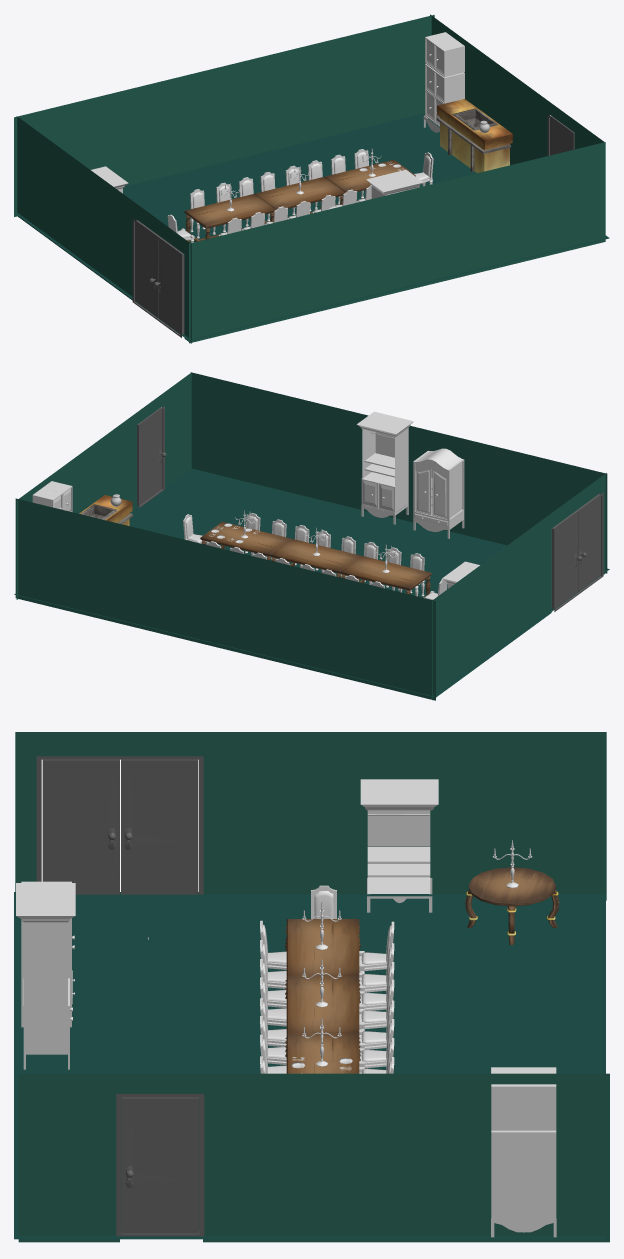
The model's file is Volle kamer.FBX.
3 renders of one model, top to bottom at view 1: azimuth 30°, elevation 25°; view 2: azimuth 150°, elevation 25°; view 3: azimuth 270°, elevation 25°, orthographic. The views are drawn at different scales.
Parts seen in each view (by area): view 1: pPlane47, pPlane49, Floor, pPlane48, pPlane50, double_door5, Aanrecht, Table_004, Table_1, Table_003, Box010, Box016 (+4 smaller); view 2: pPlane49, pPlane47, Floor, pPlane48, pPlane50, double_door5, door_011, Object009, Table_004, Table_1, Box010, Table_003 (+6 smaller); view 3: Floor, pPlane50, pPlane48, double_door5, door_011, Box010, Binnenkant 009, Table_1, Table_004, Box016, Box015, Box013 (+4 smaller).
Part boxes in pixels (x1=…): pPlane47: x1=189, y1=142, x2=605, y2=343; pPlane49: x1=14, y1=15, x2=434, y2=216; Floor: x1=15, y1=113, x2=609, y2=340; pPlane48: x1=16, y1=116, x2=191, y2=343; pPlane50: x1=430, y1=14, x2=604, y2=165; double_door5: x1=132, y1=218, x2=184, y2=337; Aanrecht: x1=436, y1=99, x2=512, y2=173; Table_004: x1=184, y1=194, x2=275, y2=228; Table_1: x1=255, y1=177, x2=345, y2=209; Table_003: x1=324, y1=160, x2=415, y2=192; Box010: x1=366, y1=169, x2=423, y2=198; Box016: x1=425, y1=32, x2=464, y2=76; pPlane49: x1=15, y1=498, x2=435, y2=700; pPlane47: x1=190, y1=372, x2=607, y2=573; Floor: x1=14, y1=468, x2=609, y2=697; pPlane48: x1=432, y1=473, x2=606, y2=700; pPlane50: x1=16, y1=372, x2=191, y2=599; double_door5: x1=551, y1=492, x2=603, y2=611; door_011: x1=137, y1=406, x2=166, y2=508; Object009: x1=413, y1=448, x2=464, y2=520; Table_004: x1=340, y1=556, x2=431, y2=590; Table_1: x1=270, y1=539, x2=361, y2=573; Box010: x1=357, y1=411, x2=413, y2=486; Table_003: x1=200, y1=521, x2=291, y2=556; Floor: x1=14, y1=892, x2=605, y2=1239; pPlane50: x1=18, y1=1073, x2=609, y2=1242; pPlane48: x1=15, y1=732, x2=606, y2=900; double_door5: x1=36, y1=756, x2=203, y2=894; door_011: x1=116, y1=1094, x2=204, y2=1236; Box010: x1=16, y1=883, x2=75, y2=1006; Binnenkant 009: x1=367, y1=810, x2=430, y2=893; Table_1: x1=286, y1=976, x2=359, y2=1034; Table_004: x1=286, y1=919, x2=359, y2=976; Box016: x1=491, y1=1067, x2=556, y2=1130; Box015: x1=491, y1=1130, x2=556, y2=1176; Box013: x1=491, y1=1176, x2=556, y2=1220.
Bounding box in the file's own units: 54.52 × 12.67 × 38.76.
